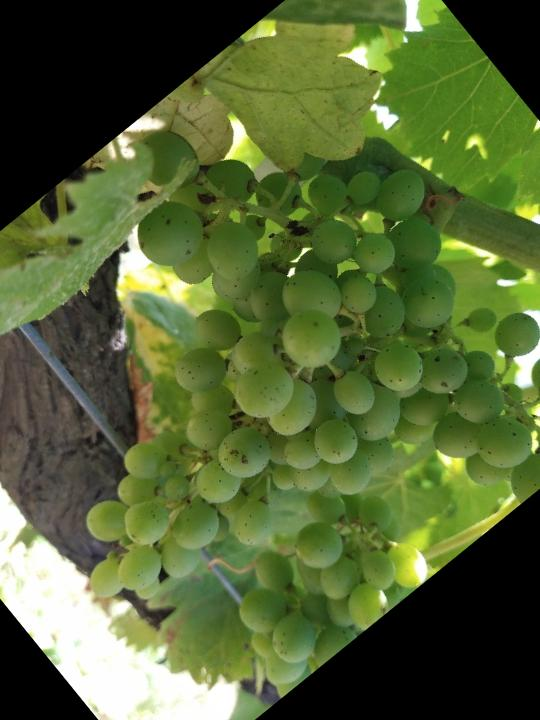grape: (0, 13, 540, 720)
